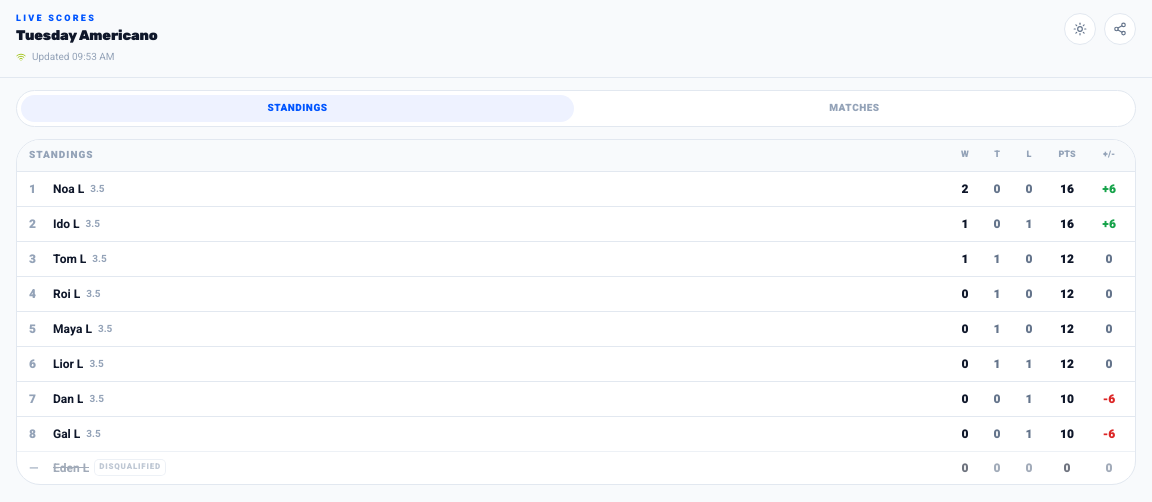
Test: the live page for an Americano › opens on the round on court and shows its games, four names each
Click the button "Matches" at (854, 108), box [578,94,1131,122]
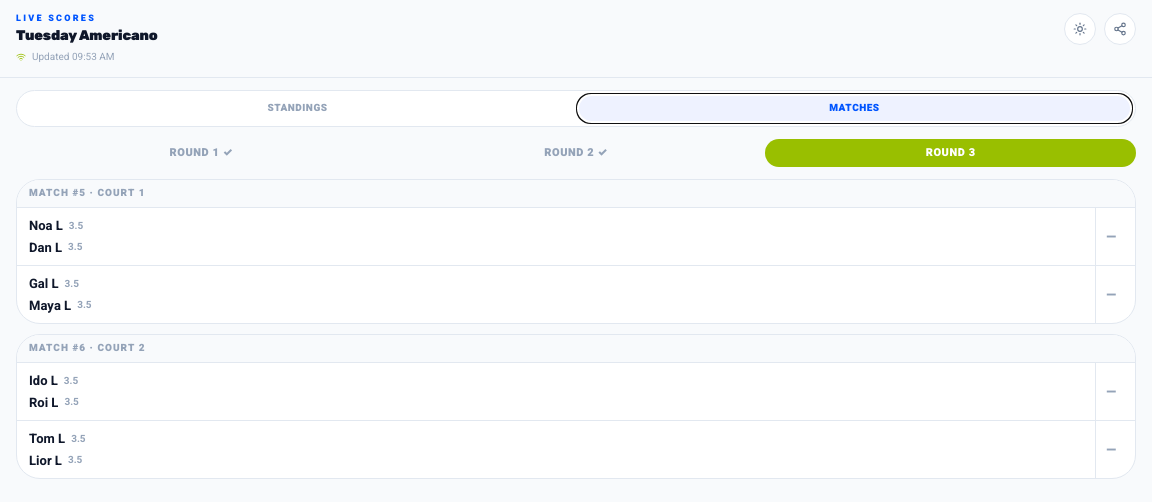
Now the text "Pts" is gone
